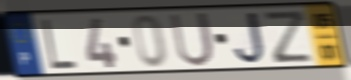0: (131, 12, 170, 69)
4: (84, 15, 120, 70)
J: (232, 10, 267, 66)
L: (39, 17, 79, 70)
U: (168, 10, 217, 69)
Z: (262, 9, 315, 65)
